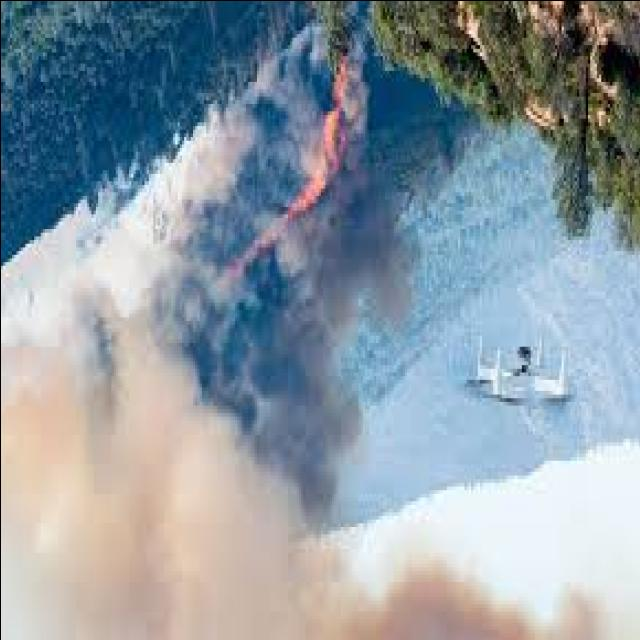drone: (466, 326, 582, 434)
